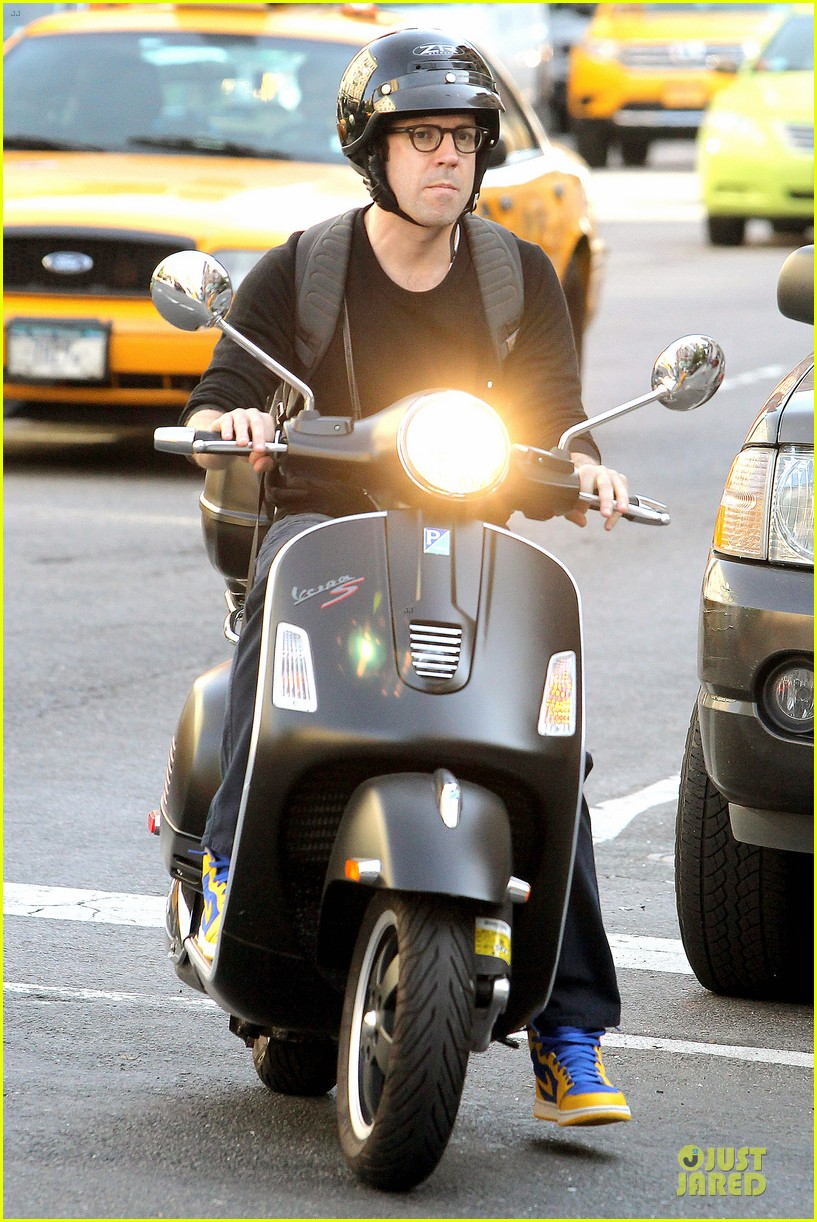helmet: (325, 22, 512, 237)
